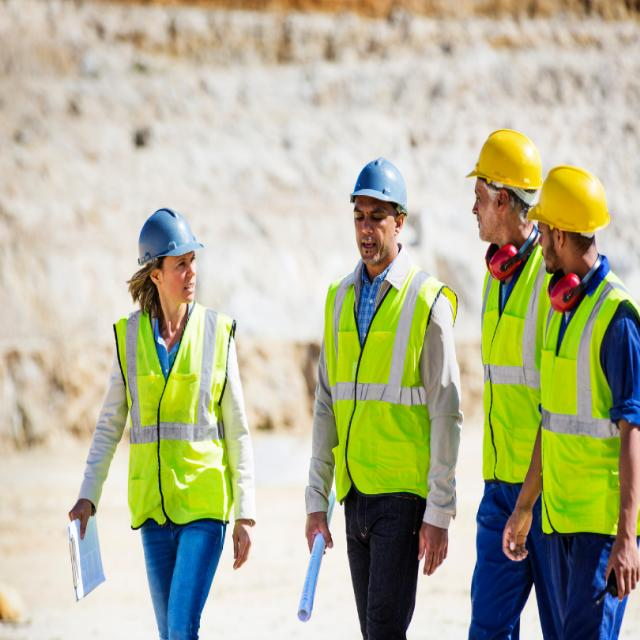helmet: (342, 148, 411, 232), (471, 130, 541, 200), (539, 159, 607, 231), (137, 203, 206, 268)
no-goggles: (462, 181, 516, 217), (152, 250, 214, 281), (346, 207, 404, 236), (534, 226, 554, 247)
vest: (111, 291, 231, 531), (326, 267, 447, 504), (548, 276, 634, 538), (480, 248, 540, 486)
